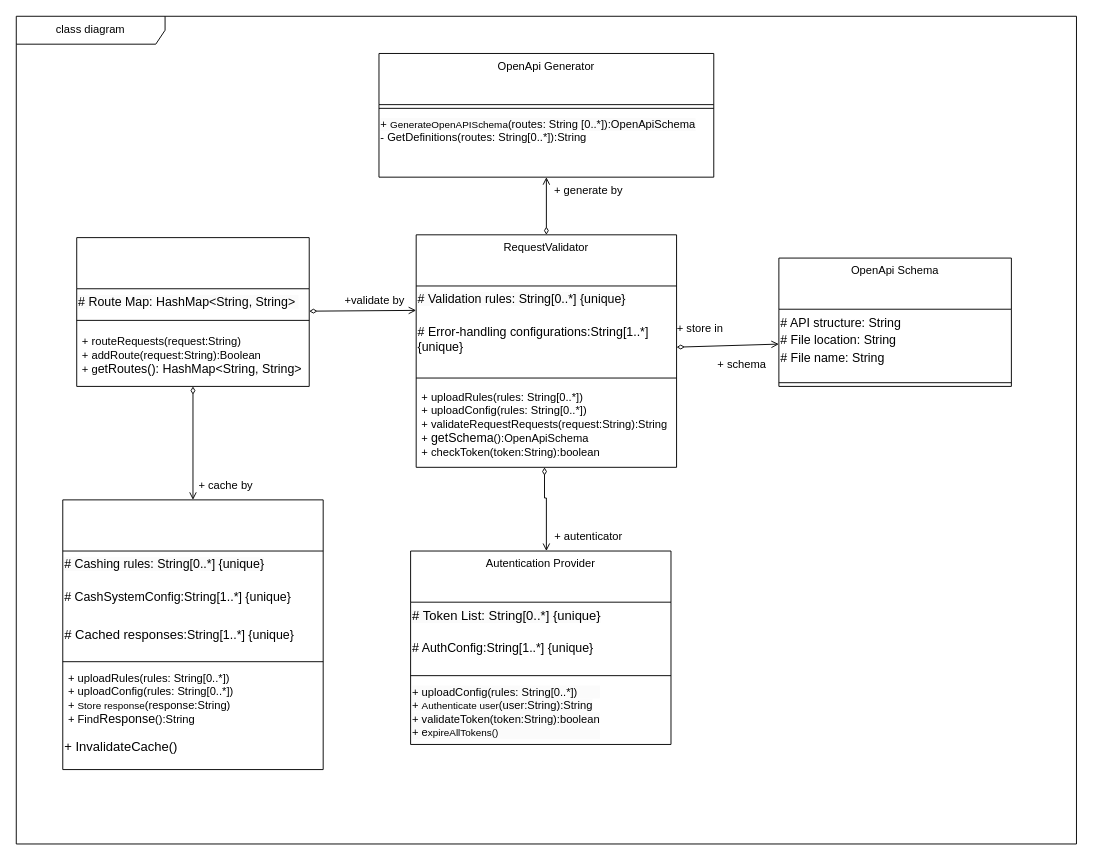
This 1093x860 diagram has some shape labels left out. The box of each missing label's shape, as (x1, y1, x2, y2) in pixels:
Distributor: (76, 237, 309, 386)
Responce Cacher: (62, 499, 323, 770)
